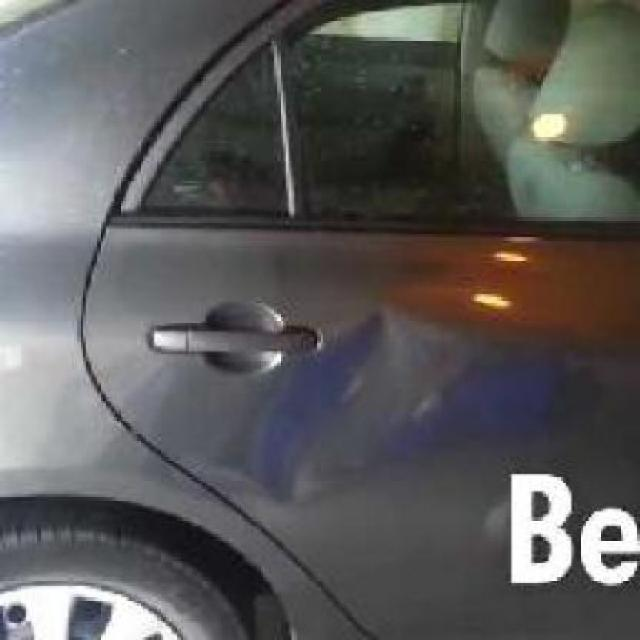dent-or-scratch: (316, 292, 492, 470)
